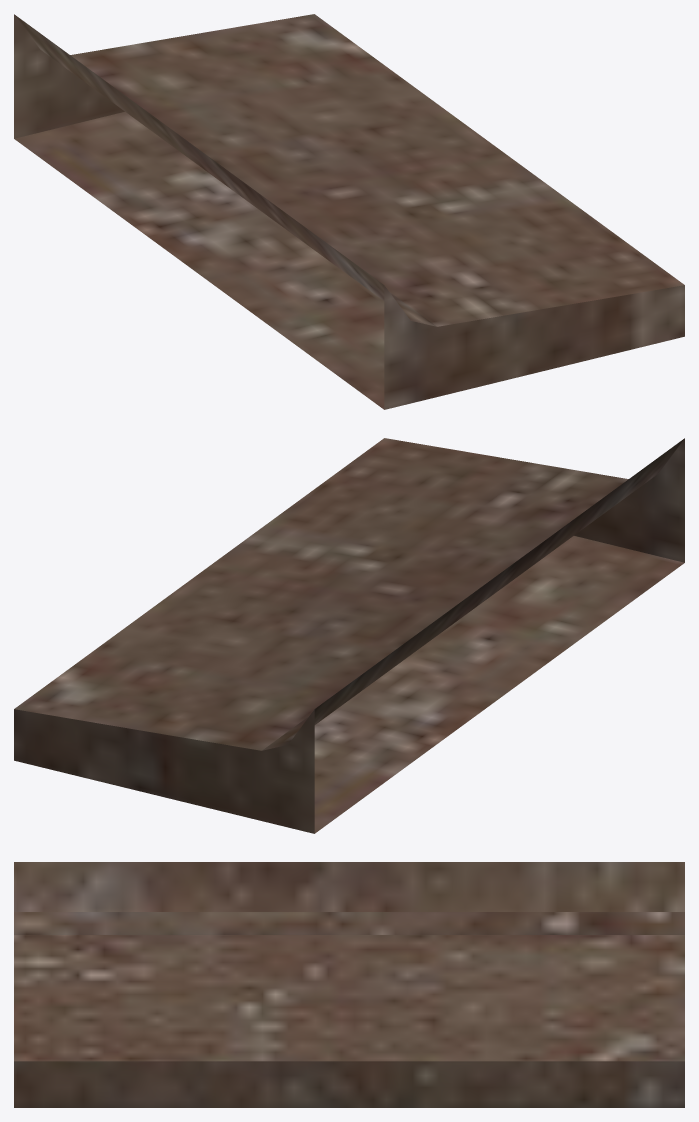
Rendered from WindowTop_S.FBX.
3 views of the same model, one above another, from view 1: azimuth 30°, elevation 25°; view 2: azimuth 150°, elevation 25°; view 3: azimuth 270°, elevation 25° (orthographic). The views are drawn at different scales.
Parts seen in each view (by area): view 1: WindowTop_S; view 2: WindowTop_S; view 3: WindowTop_S.
Boxes of the visible parts, box(x1,y1,x2,y2) form: WindowTop_S: box(14, 14, 684, 409); WindowTop_S: box(14, 438, 684, 833); WindowTop_S: box(14, 862, 684, 1107).
Size of the model in its own units: 80.93 by 32.1 by 173.
